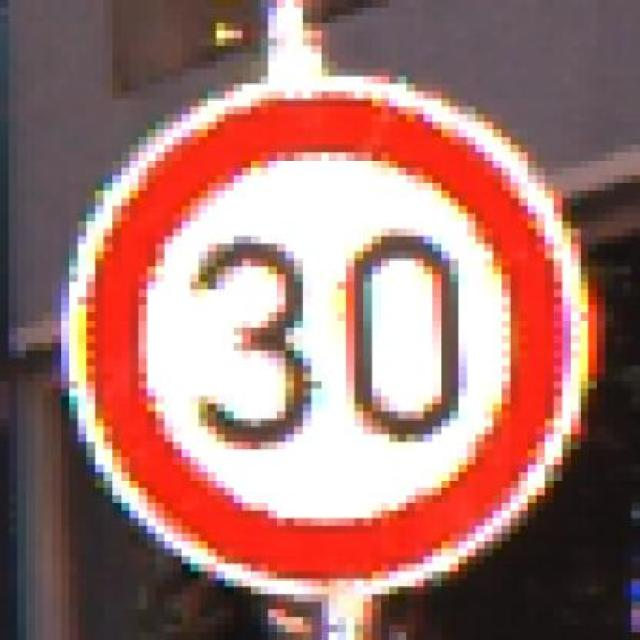Speed Limit 30 KMPh: (51, 45, 614, 618)
